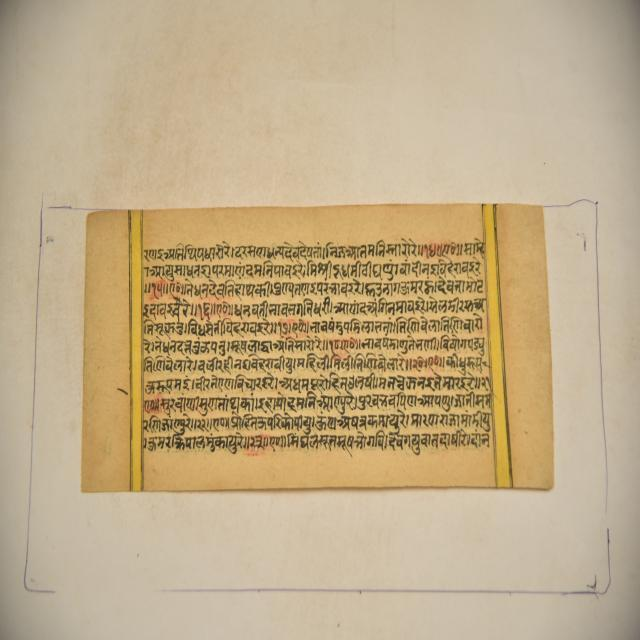text_paragraph: (81, 205, 550, 492)
